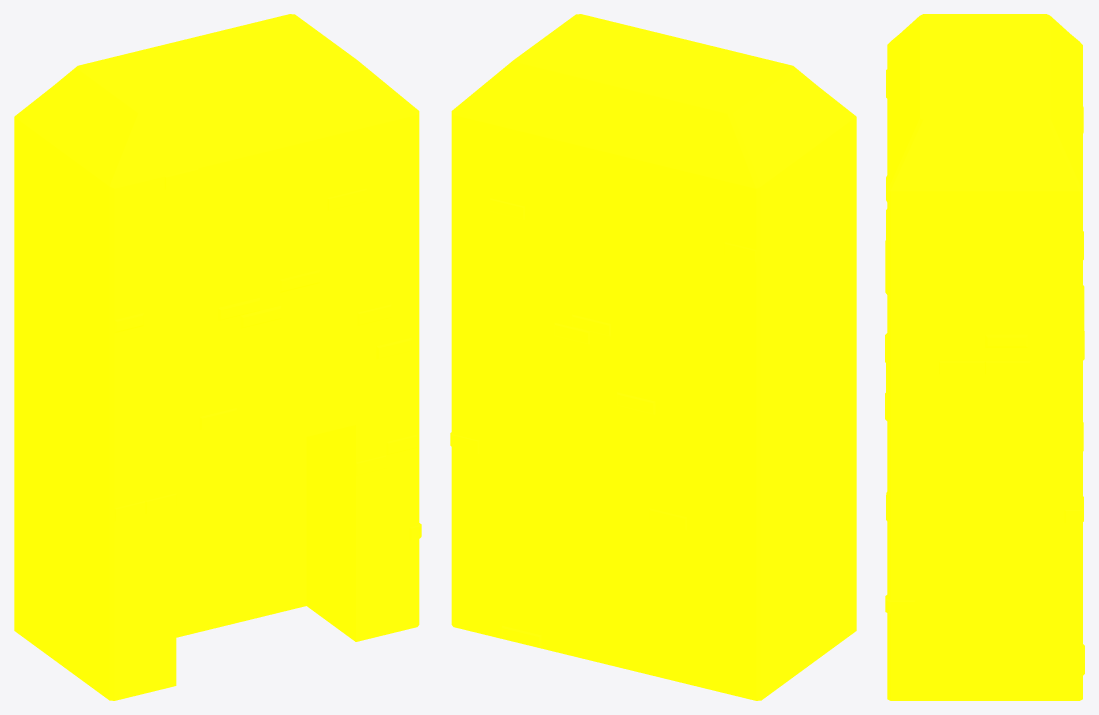
Rendered from fireplace-brick-large.glb.
The picture shows the model from 3 angles, left to right: view 1: azimuth 30°, elevation 25°; view 2: azimuth 150°, elevation 25°; view 3: azimuth 270°, elevation 25°; orthographic projection.
Parts seen in each view (by area): view 1: fireplace_brick_large; view 2: fireplace_brick_large; view 3: fireplace_brick_large.
Part boxes in pixels (left/top/right/bottom): fireplace_brick_large: left=14, top=14, right=421, bottom=700; fireplace_brick_large: left=450, top=14, right=856, bottom=700; fireplace_brick_large: left=885, top=14, right=1084, bottom=700.
Size of the model in its own units: 1.73 by 3 by 0.9714.
Materials: 1 (1 with a texture image).
